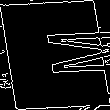M_W: (6, 30, 104, 80)
